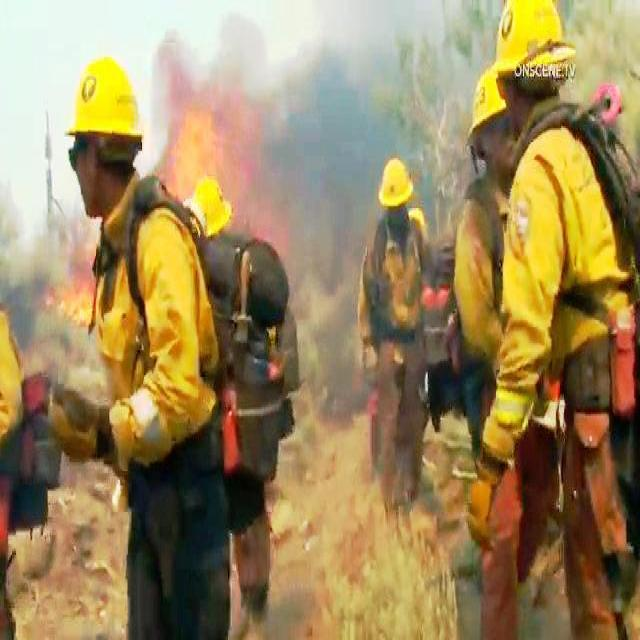Smoke: (218, 18, 358, 175)
